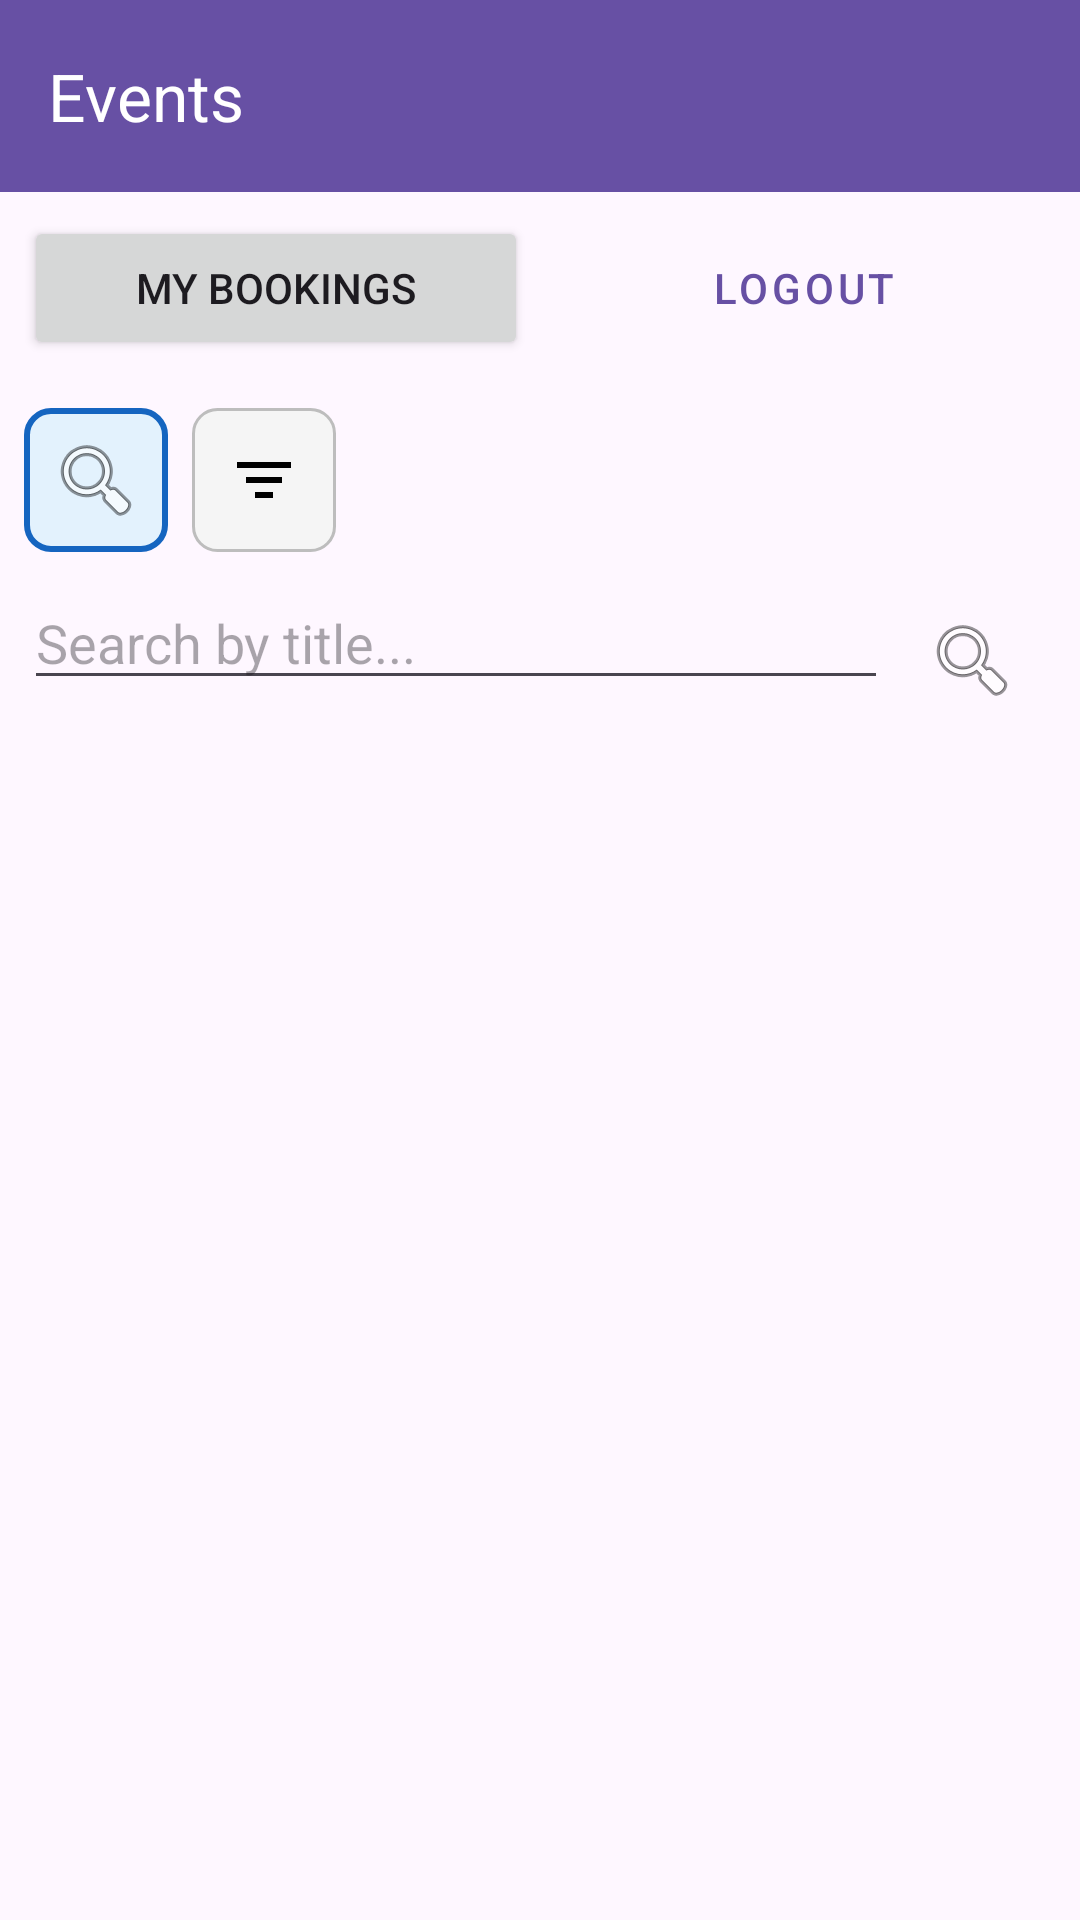

Icon click points for this 1080×1920 phone screenshot, format (x=x, y=y):
Filter events: (x=264, y=480)
